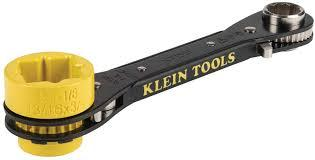wrench: (1, 1, 314, 157)
